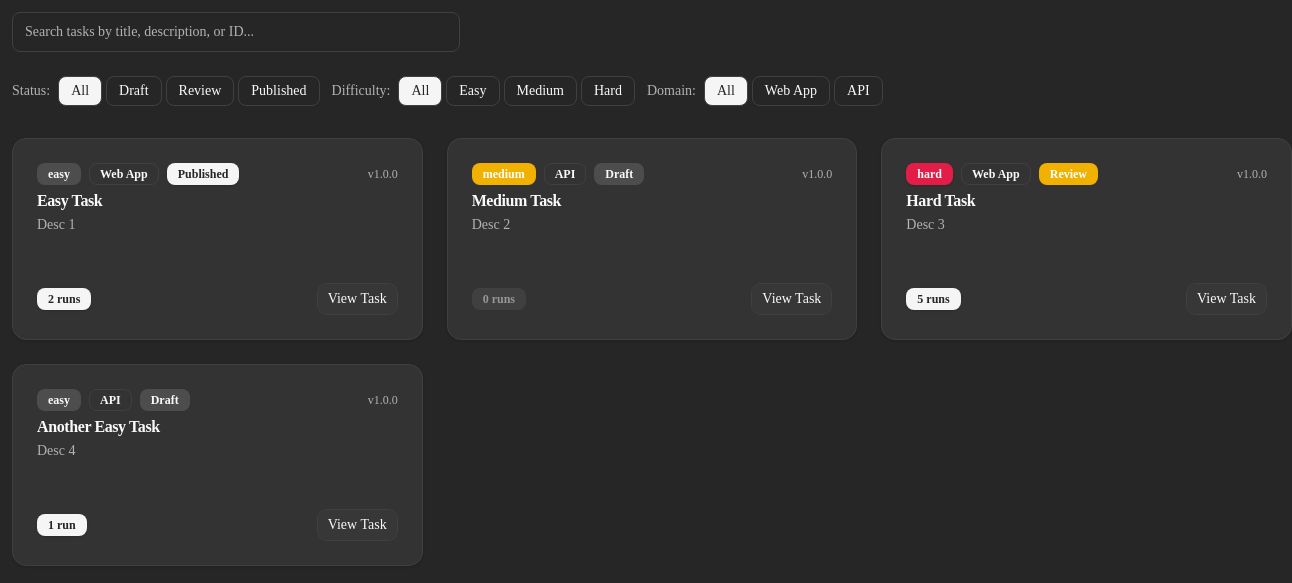
Test: TaskListWithFilters › searches by description
The width and height of the screenshot is (1292, 583).
Type "Desc 2" into the field with test id "search-input".
click(236, 32); type("Desc 2")  # box [12,12,460,52]
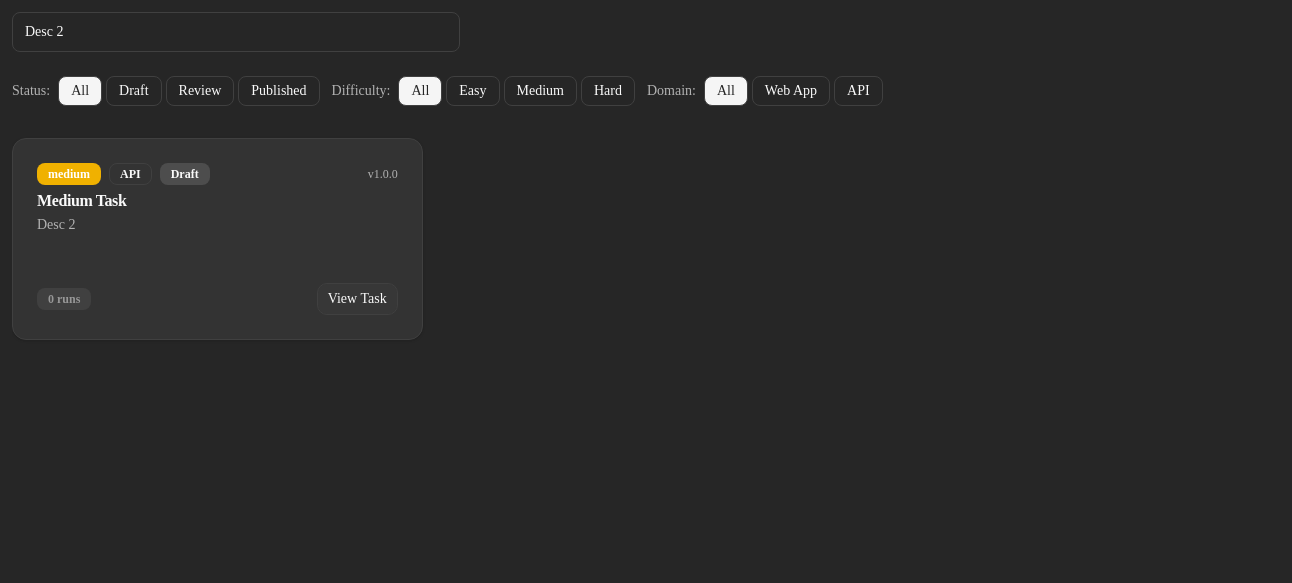
Check: the text "Easy Task" is gone
Check: the text "Hard Task" is gone
Check: the text "Another Easy Task" is gone
